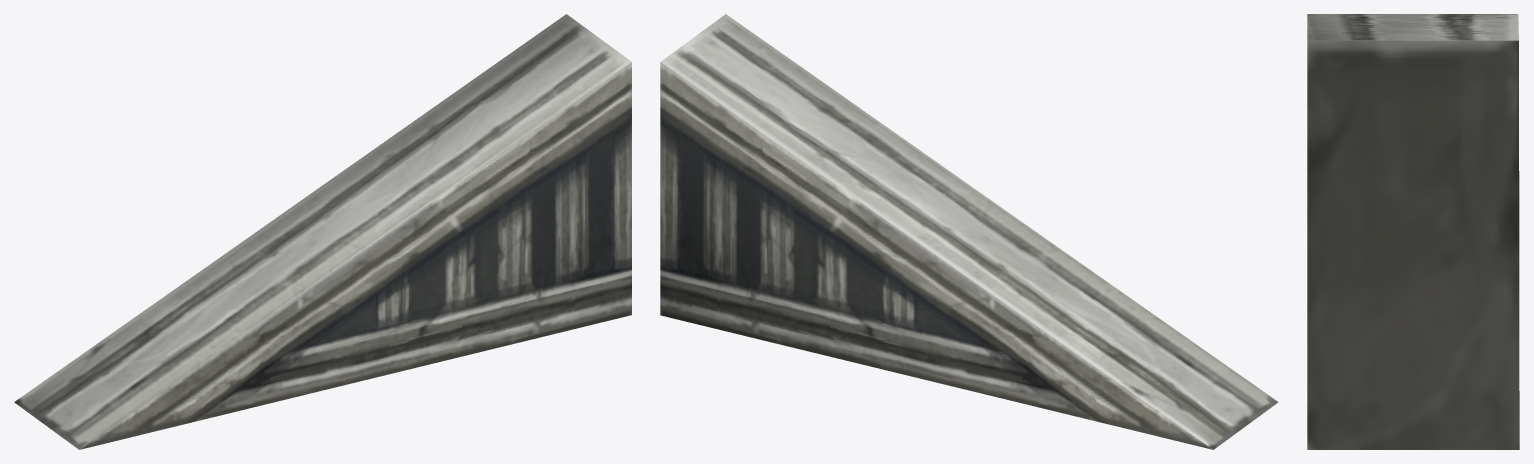
The model's file is unity_dungeon_temple01.FBX.
3 views of the same model, side by side, from view 1: azimuth 30°, elevation 25°; view 2: azimuth 150°, elevation 25°; view 3: azimuth 270°, elevation 25° (orthographic). The views are drawn at different scales.
Visible parts, largest first — view 1: unity_dungeon_temple01; view 2: unity_dungeon_temple01; view 3: unity_dungeon_temple01.
Part boxes in pixels (bbox=[...]): unity_dungeon_temple01: bbox=[14, 14, 631, 449]; unity_dungeon_temple01: bbox=[660, 14, 1278, 449]; unity_dungeon_temple01: bbox=[1307, 14, 1519, 449].
Size of the model in its own units: 6.3 by 2.76 by 1.3.
